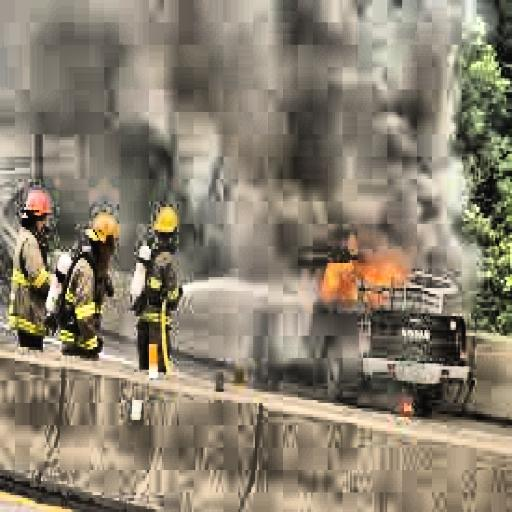fire: (307, 235, 408, 322)
